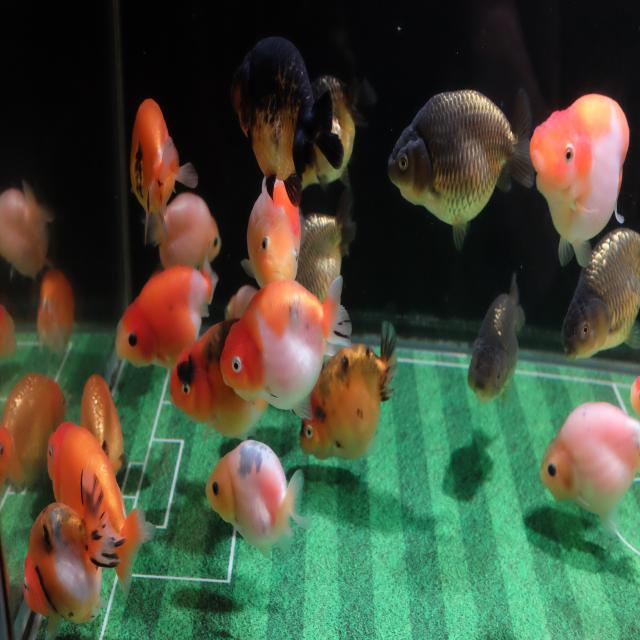Goldfish: (386, 86, 535, 254), (46, 419, 158, 599), (218, 274, 354, 422), (230, 33, 344, 208), (528, 92, 630, 273), (21, 468, 127, 626), (298, 318, 401, 464), (539, 400, 640, 541), (114, 241, 218, 373), (204, 438, 313, 562), (168, 316, 269, 438), (559, 226, 640, 364), (130, 96, 200, 250), (1, 372, 68, 496), (467, 273, 525, 405), (294, 184, 358, 302), (246, 171, 302, 300), (142, 191, 223, 277), (0, 180, 56, 284), (80, 373, 127, 486), (33, 264, 76, 364)
